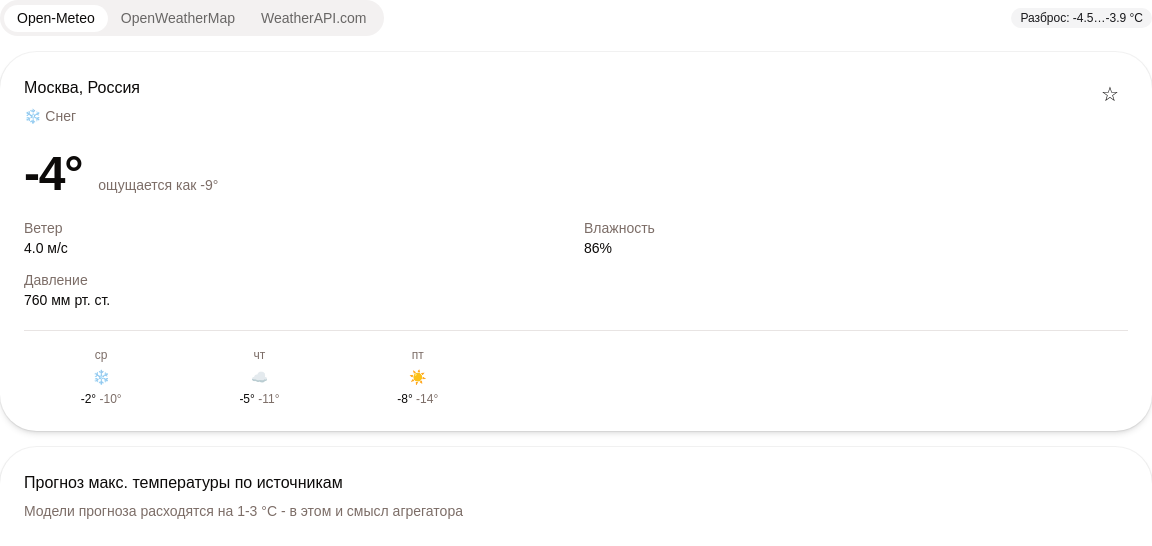
Test: WeatherOverview › показывает данные всех провайдеров и переключается по табам
The image size is (1152, 546).
expect the text "-4°" is shown: met, box [24,150,82,198]
Click the tab "OpenWeatherMap".
click(178, 18)  # box [108,4,248,32]
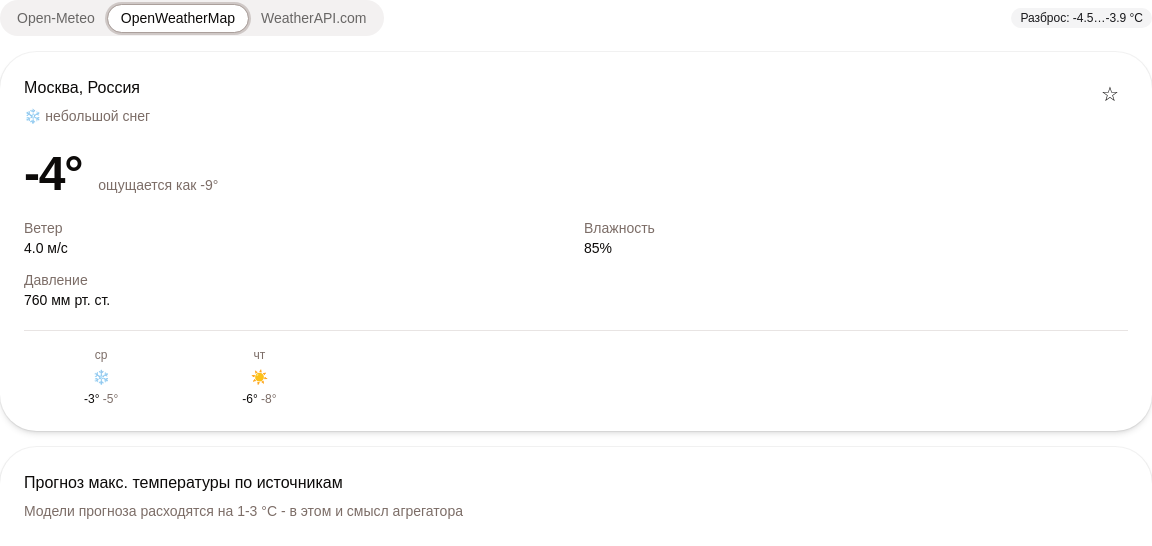
expect the text "❄️ небольшой снег" is shown: met, box [24,108,150,124]
Click the tab "WeatherAPI.com".
click(314, 18)  # box [248,4,380,32]
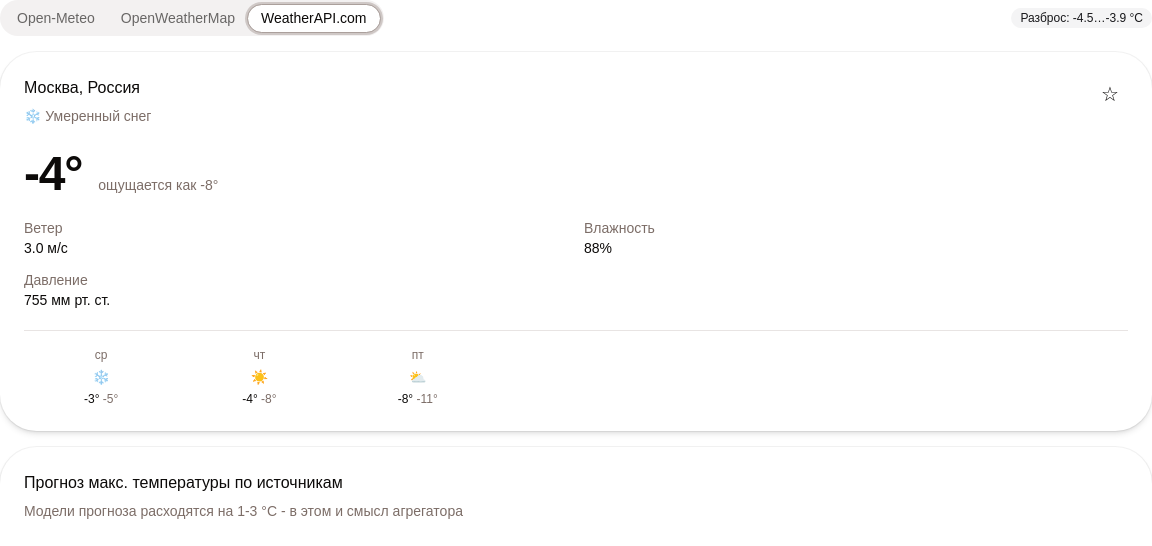
expect the text "❄️ Умеренный снег" is shown: met, box [24,108,152,124]
